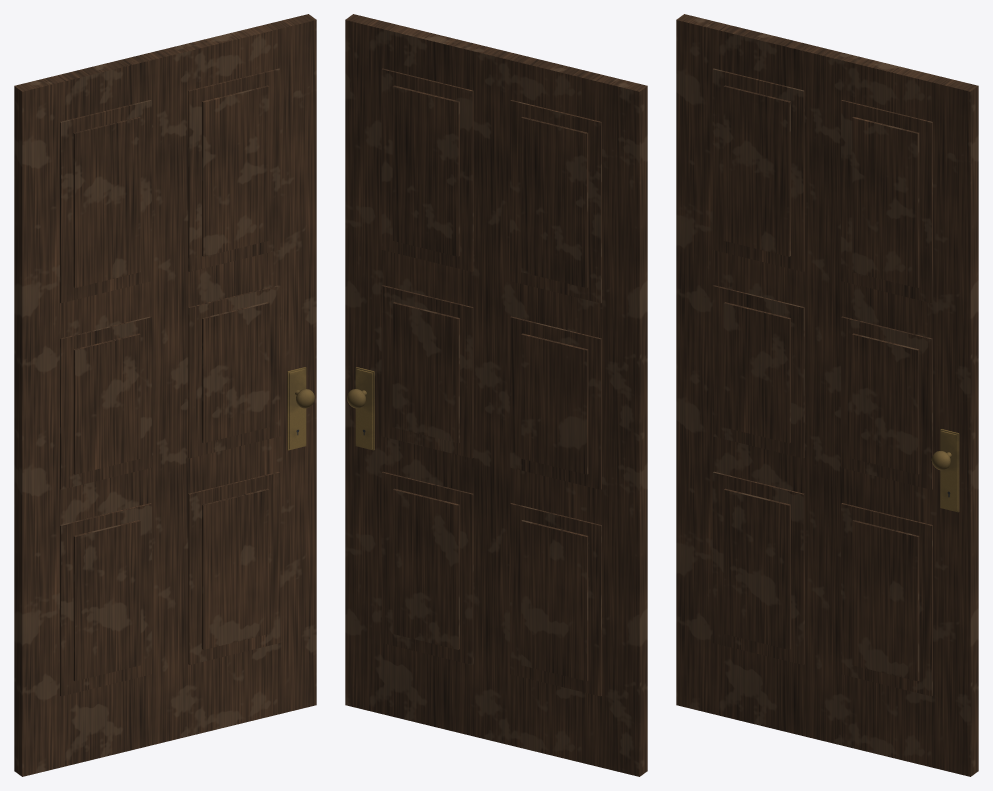
The model's file is SM_FJH_Door_Front.fbx.
The picture shows the model from 3 angles, left to right: view 1: azimuth 30°, elevation 25°; view 2: azimuth 150°, elevation 25°; view 3: azimuth 330°, elevation 25°; orthographic projection.
Visible parts, largest first — view 1: SM_FJH_Door_Front; view 2: SM_FJH_Door_Front; view 3: SM_FJH_Door_Front.
Part boxes in pixels (x1=…): SM_FJH_Door_Front: x1=14, y1=14, x2=316, y2=776; SM_FJH_Door_Front: x1=345, y1=14, x2=647, y2=776; SM_FJH_Door_Front: x1=676, y1=14, x2=978, y2=776.
Size of what is drawn, in the model's own units: 0.94 by 2.09 by 0.185.
3 materials, 2 textured.
